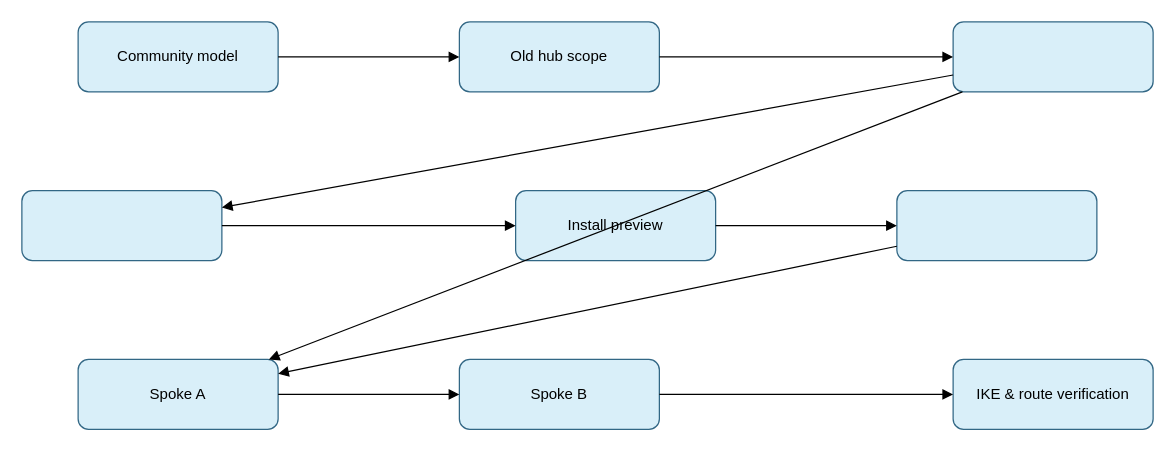
This 1175x451 diagram has some shape labels left out. The shapes that lost their labels are listed below. From the top down, each one's centre as x and y in pixels, then its label:
point 1052,56: New hub device
point 121,225: Normalized WAN map
point 996,225: Policy package
